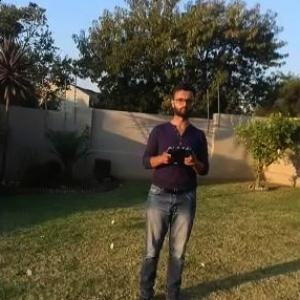follow: (128, 78, 213, 299)
